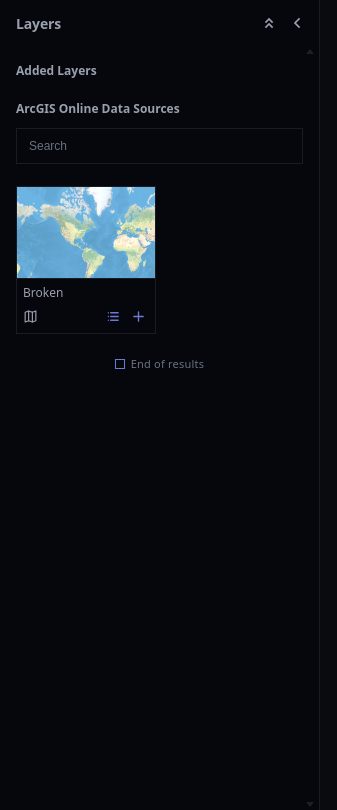
Test case: LayerPanel 画廊补强 › 添加图层失败 → toast 提示
Expected: the text "Broken" is shown, [23,284,63,301]
Click the button named "Add Broken".
click(138, 317)  # box [128,307,148,327]
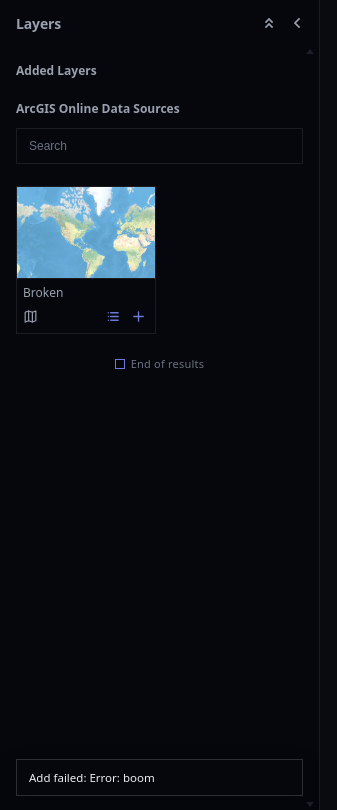
Now the message "Add failed: Error: boom" is shown, box [16,759,303,796]
